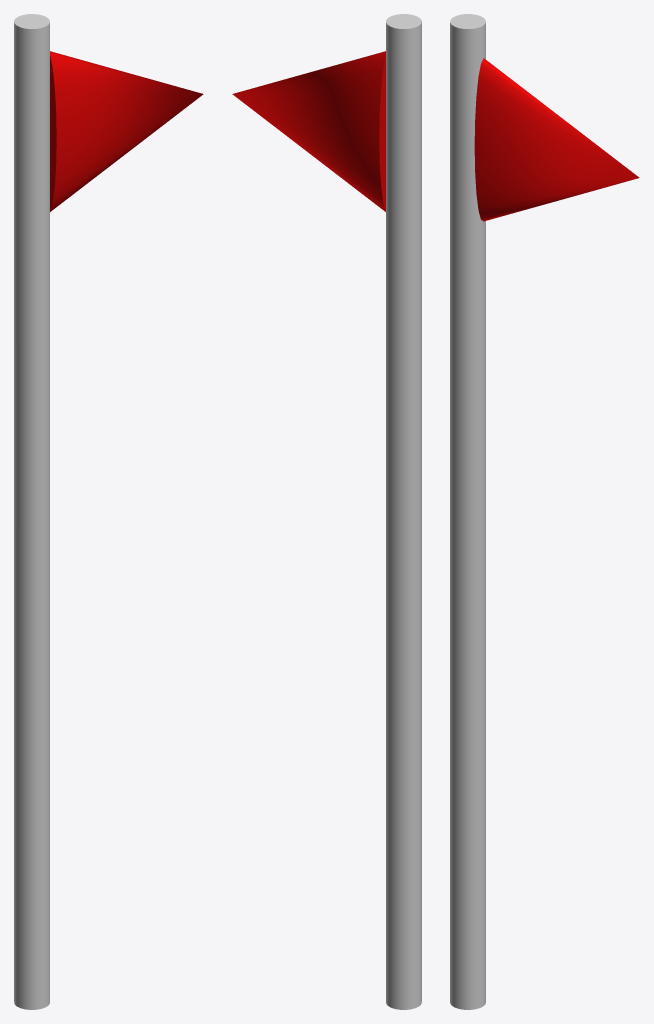
File: pole.fbx
3 renders of one model, left to right at view 1: azimuth 30°, elevation 25°; view 2: azimuth 150°, elevation 25°; view 3: azimuth 330°, elevation 25°, orthographic.
Parts seen in each view (by area): view 1: pCylinder1, pCone1; view 2: pCylinder1, pCone1; view 3: pCylinder1, pCone1.
Boxes of the visible parts, <box> form: pCylinder1: <box>14,14,49,1009</box>; pCone1: <box>50,51,203,211</box>; pCylinder1: <box>386,14,421,1009</box>; pCone1: <box>232,51,385,211</box>; pCylinder1: <box>450,14,485,1009</box>; pCone1: <box>474,58,639,221</box>.
Bounding box in the file's own units: 1.2 × 6 × 0.2.
